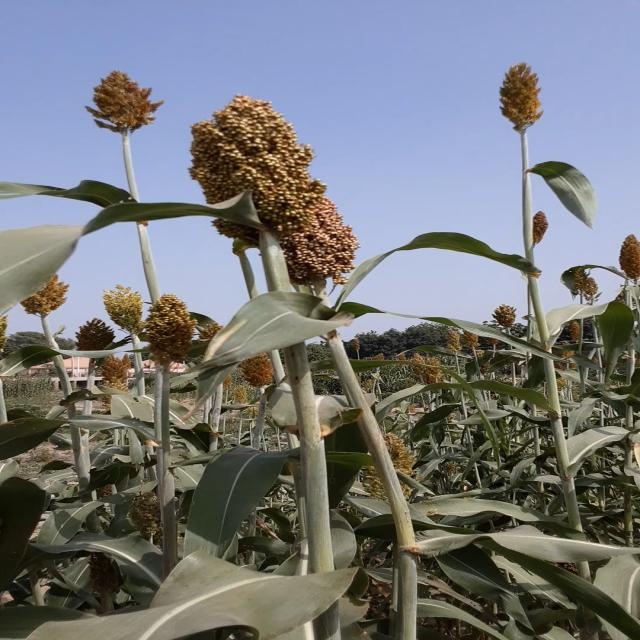UnripeSorghum: (157, 97, 400, 292), (71, 68, 169, 145), (474, 62, 569, 140)
